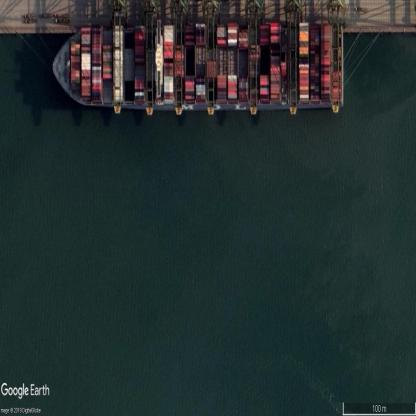ship: (53, 26, 347, 116)
